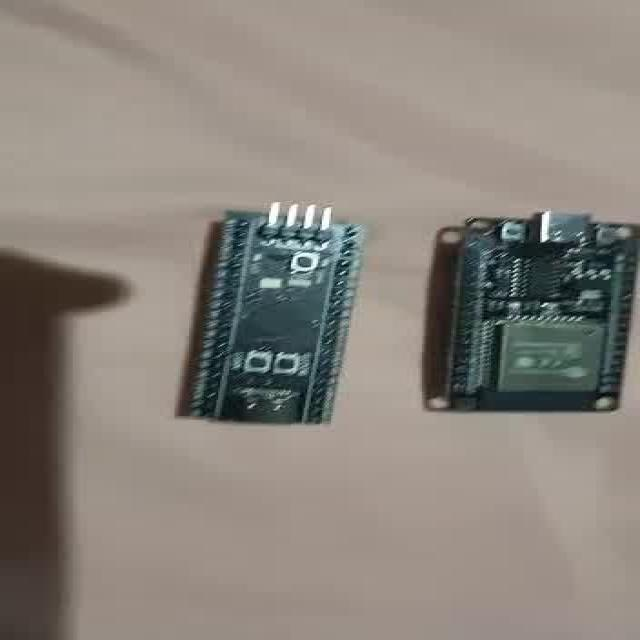ESP32: (448, 212, 640, 410)
STM32: (180, 204, 362, 425)
